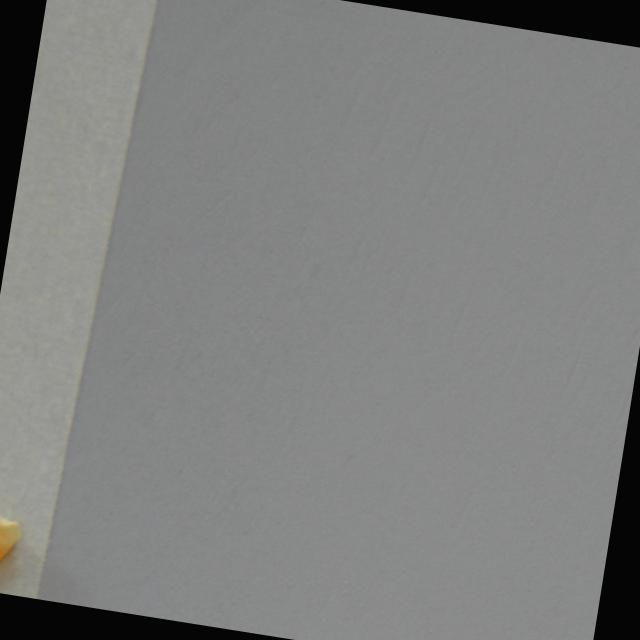entero: (0, 511, 27, 591)
